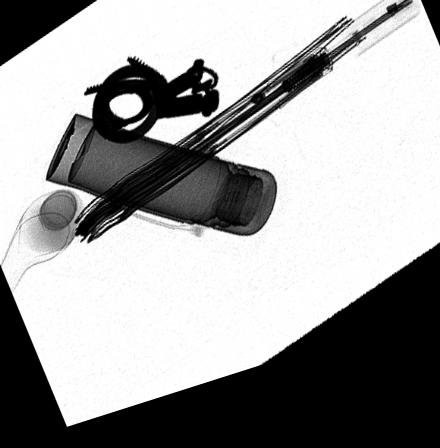HandCuffs: (84, 62, 219, 152)
